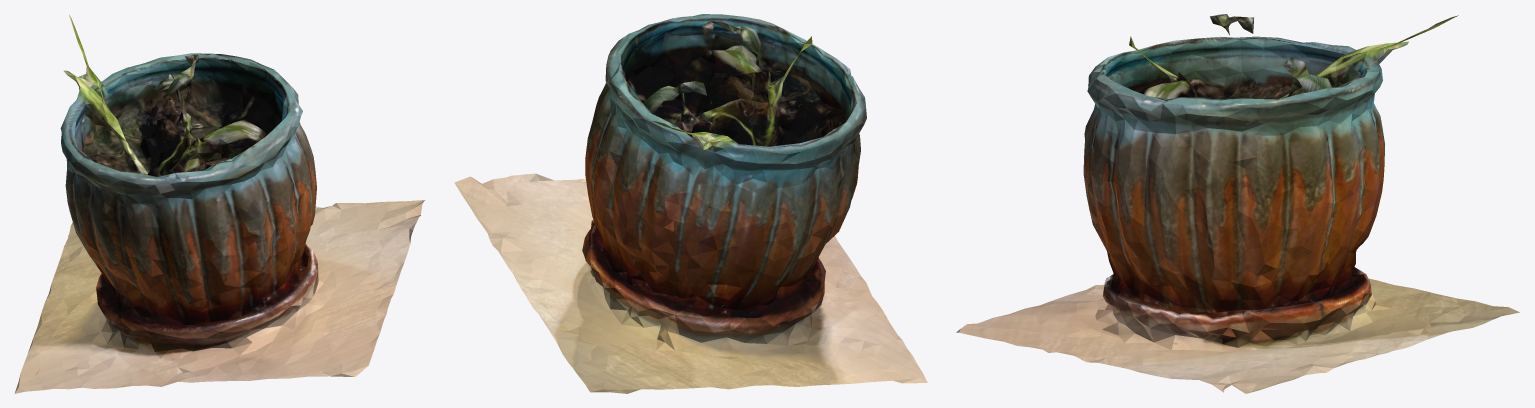
The model's file is silver-inch-plant.glb.
3 renders of one model, left to right at view 1: azimuth 30°, elevation 25°; view 2: azimuth 150°, elevation 25°; view 3: azimuth 270°, elevation 25°, orthographic. The views are drawn at different scales.
Bounding box in the file's own units: 0.2966 × 0.194 × 0.2888.
1 material, 1 textured.
